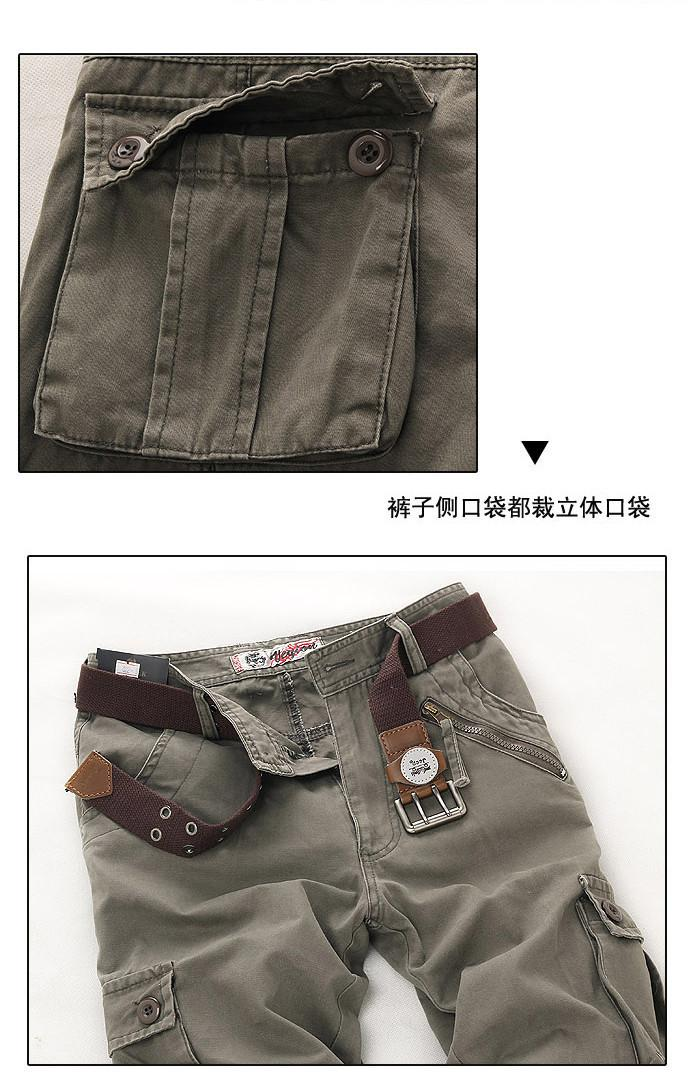pants: (100, 582, 658, 1070)
